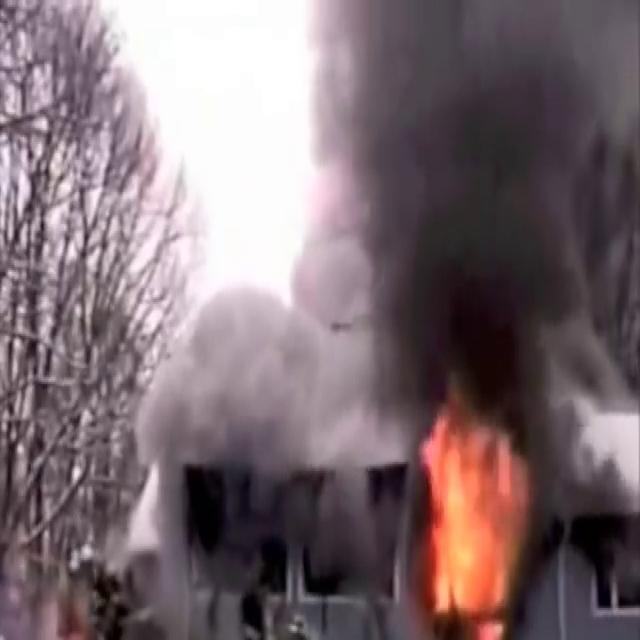Fire: (286, 24, 640, 400), (422, 402, 532, 610)
Smoke: (146, 219, 428, 499)
